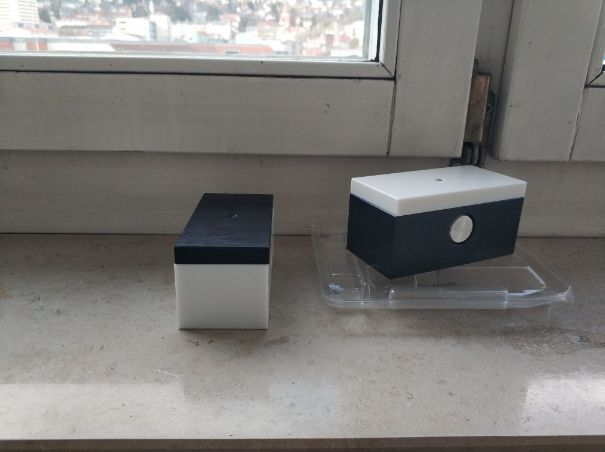white+black+silver: (344, 162, 529, 282)
